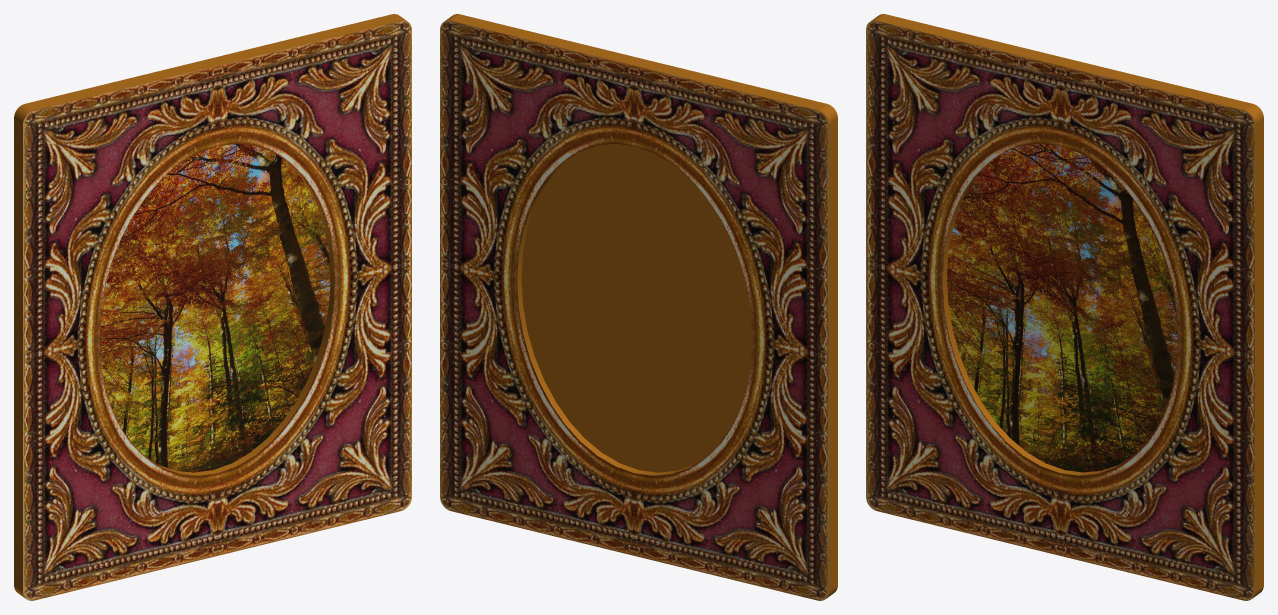
File: Frame_08.FBX
3 views of the same model, side by side, from view 1: azimuth 30°, elevation 25°; view 2: azimuth 150°, elevation 25°; view 3: azimuth 330°, elevation 25° (orthographic).
Visible parts, largest first — view 1: Frame_08; view 2: Frame_08; view 3: Frame_08.
Boxes of the visible parts, x1,y1,x2,y2 form: Frame_08: [14, 14, 411, 600]; Frame_08: [440, 14, 837, 600]; Frame_08: [866, 14, 1263, 600].
Bounding box in the file's own units: 896 × 36 × 1080.
